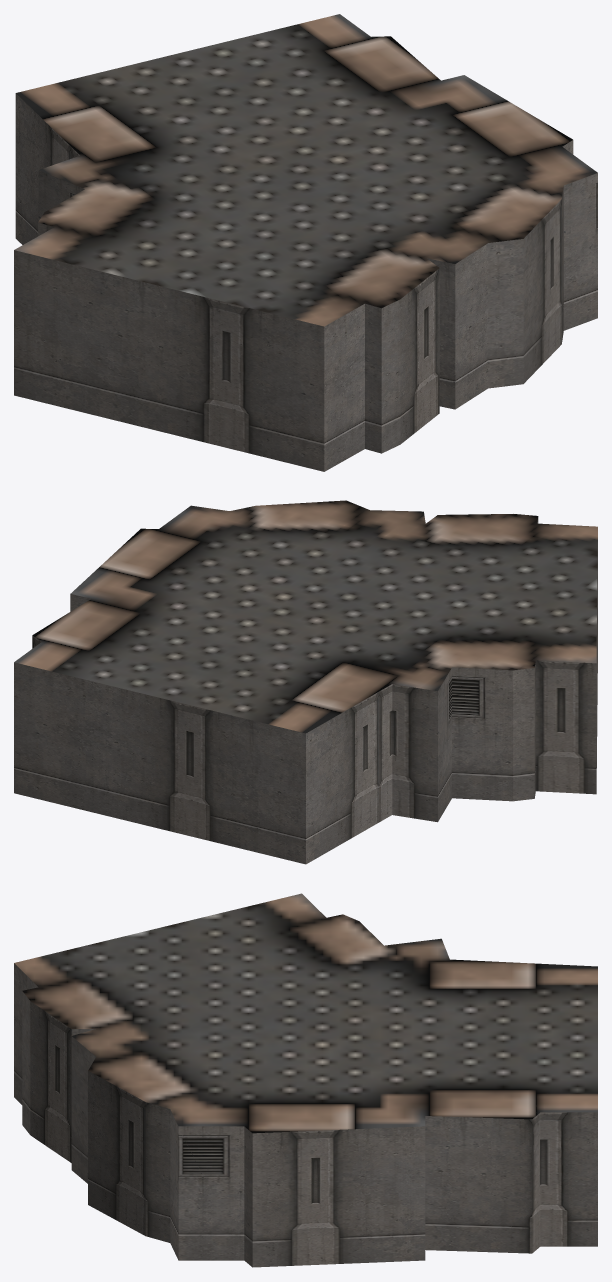
File: building_hard_a_17.glb
The picture shows the model from 3 angles, top to bottom: view 1: azimuth 30°, elevation 25°; view 2: azimuth 150°, elevation 25°; view 3: azimuth 270°, elevation 25°; orthographic projection. The views are drawn at different scales.
Parts seen in each view (by area): view 1: buildings/saxarba/building_hard/building_hard_a_17; view 2: buildings/saxarba/building_hard/building_hard_a_17; view 3: buildings/saxarba/building_hard/building_hard_a_17.
Part boxes in pixels (x1=…): buildings/saxarba/building_hard/building_hard_a_17: x1=14, y1=14, x2=597, y2=471; buildings/saxarba/building_hard/building_hard_a_17: x1=14, y1=500, x2=597, y2=864; buildings/saxarba/building_hard/building_hard_a_17: x1=14, y1=893, x2=597, y2=1267.
Bounding box in the file's own units: 69 × 18 × 71.
